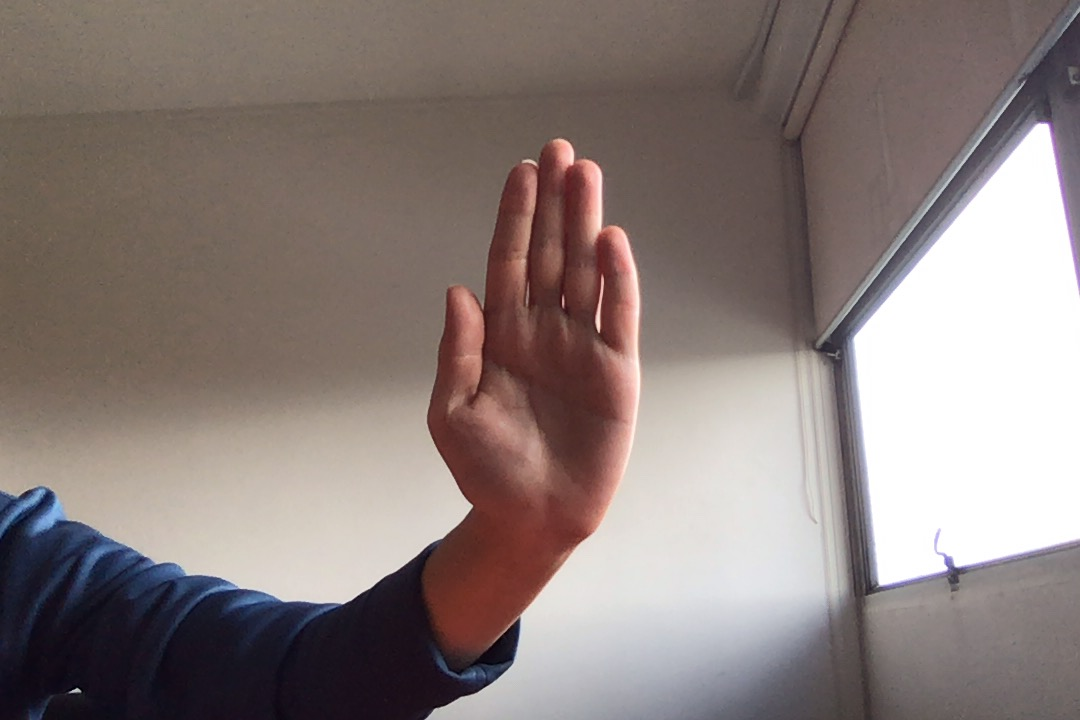palmhand: (417, 130, 651, 549)
